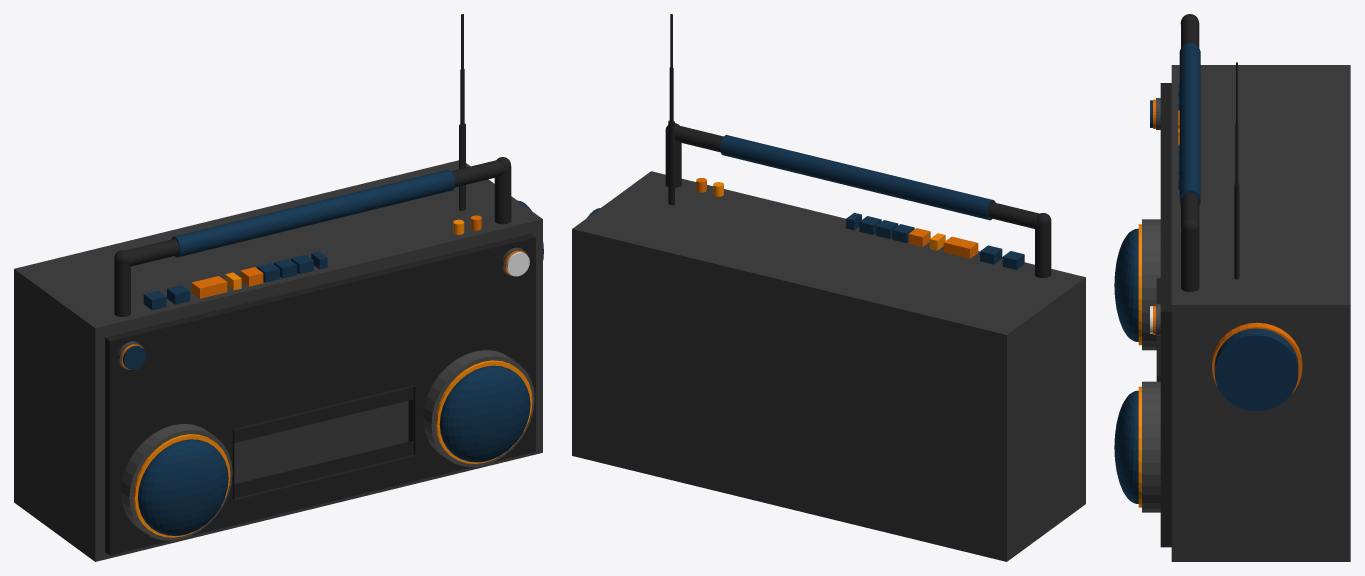
Rendered from BlackBoombox.fbx.
3 renders of one model, left to right at view 1: azimuth 30°, elevation 25°; view 2: azimuth 150°, elevation 25°; view 3: azimuth 270°, elevation 25°, orthographic. The views are drawn at different scales.
Parts seen in each view (by area): view 1: DarkBoomBox, Cube.001, Sphere.001, Sphere, Cylinder.038, Cylinder.001, Cylinder, Cylinder.007, Cylinder.022, Cylinder.021, Cylinder.002, Cylinder.003; view 2: Cube.001, Cylinder.038, Cylinder.007, Cylinder.002; view 3: Cube.001, DarkBoomBox, Cylinder.008, Cylinder.038, Cylinder.001, Sphere, Sphere.001, Cylinder, Cylinder.003, Cylinder.007, Cylinder.026, Cylinder.004 (+2 smaller).
Boxes of the visible parts, left/top/right/bottom form: DarkBoomBox: left=105, top=234, right=535, bottom=555; Cube.001: left=14, top=160, right=542, bottom=561; Sphere.001: left=439, top=365, right=530, bottom=462; Sphere: left=138, top=439, right=228, bottom=535; Cylinder.038: left=171, top=169, right=454, bottom=257; Cylinder.001: left=423, top=350, right=534, bottom=466; Cylinder: left=121, top=423, right=232, bottom=540; Cylinder.007: left=125, top=160, right=508, bottom=266; Cylinder.022: left=435, top=360, right=532, bottom=463; Cylinder.021: left=133, top=434, right=230, bottom=537; Cylinder.002: left=114, top=260, right=130, bottom=316; Cylinder.003: left=494, top=166, right=511, bottom=224; Cube.001: left=572, top=171, right=1085, bottom=561; Cylinder.038: left=720, top=135, right=995, bottom=220; Cylinder.007: left=667, top=125, right=1040, bottom=228; Cylinder.002: left=1035, top=223, right=1051, bottom=277; Cube.001: left=1171, top=65, right=1350, bottom=561; DarkBoomBox: left=1156, top=83, right=1171, bottom=547; Cylinder.008: left=1214, top=328, right=1298, bottom=411; Cylinder.038: left=1179, top=43, right=1200, bottom=205; Cylinder.001: left=1142, top=381, right=1160, bottom=512; Sphere: left=1114, top=228, right=1138, bottom=341; Sphere.001: left=1114, top=390, right=1138, bottom=503; Cylinder: left=1142, top=219, right=1160, bottom=350; Cylinder.003: left=1181, top=229, right=1199, bottom=291; Cylinder.007: left=1181, top=19, right=1199, bottom=231; Cylinder.026: left=1212, top=322, right=1302, bottom=393; Cylinder.004: left=1234, top=183, right=1239, bottom=279.
Bounding box in the file's own units: 6439 × 5639 × 2559.
